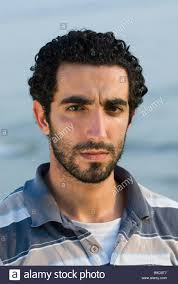middle_eastern_male: (38, 53, 138, 187)
